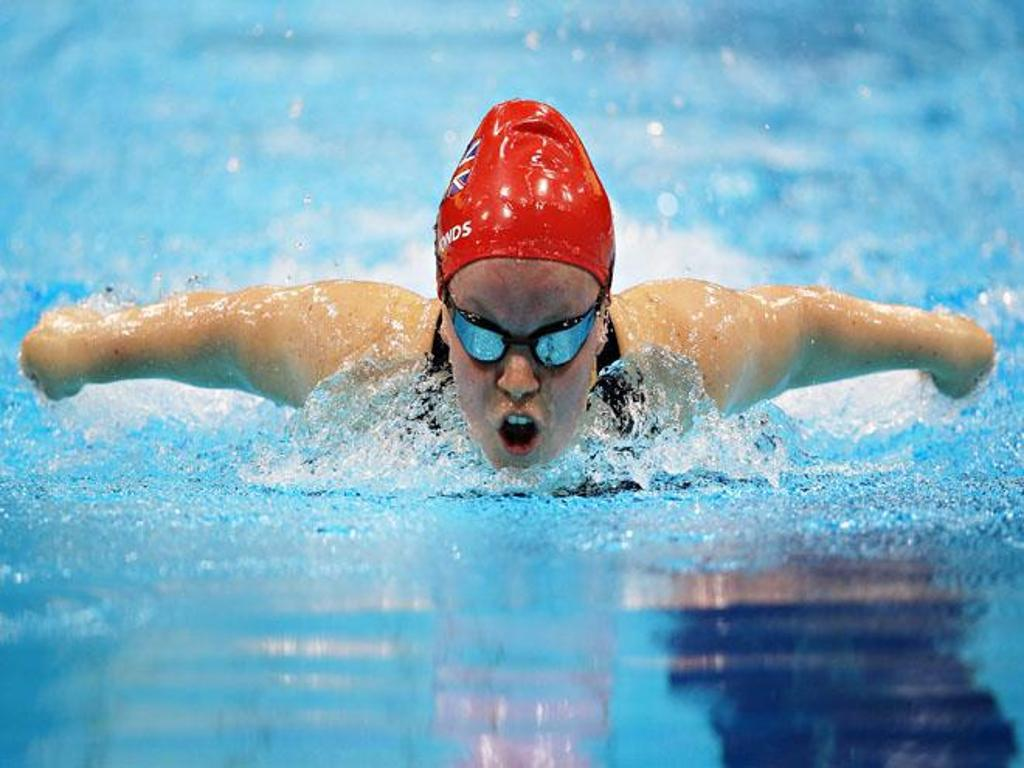face: (447, 279, 603, 475)
